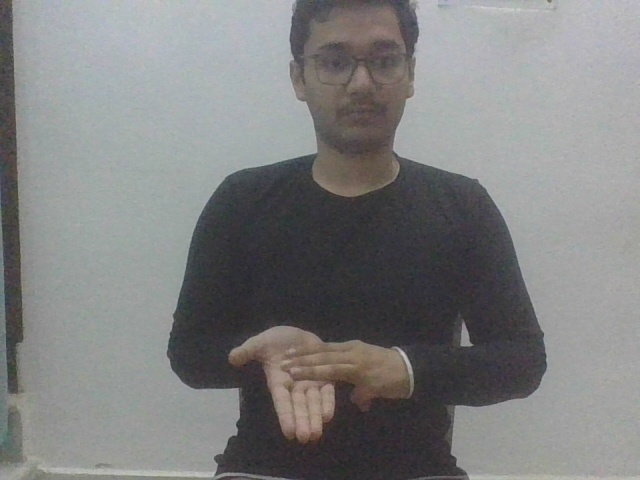M: (226, 323, 414, 446)
